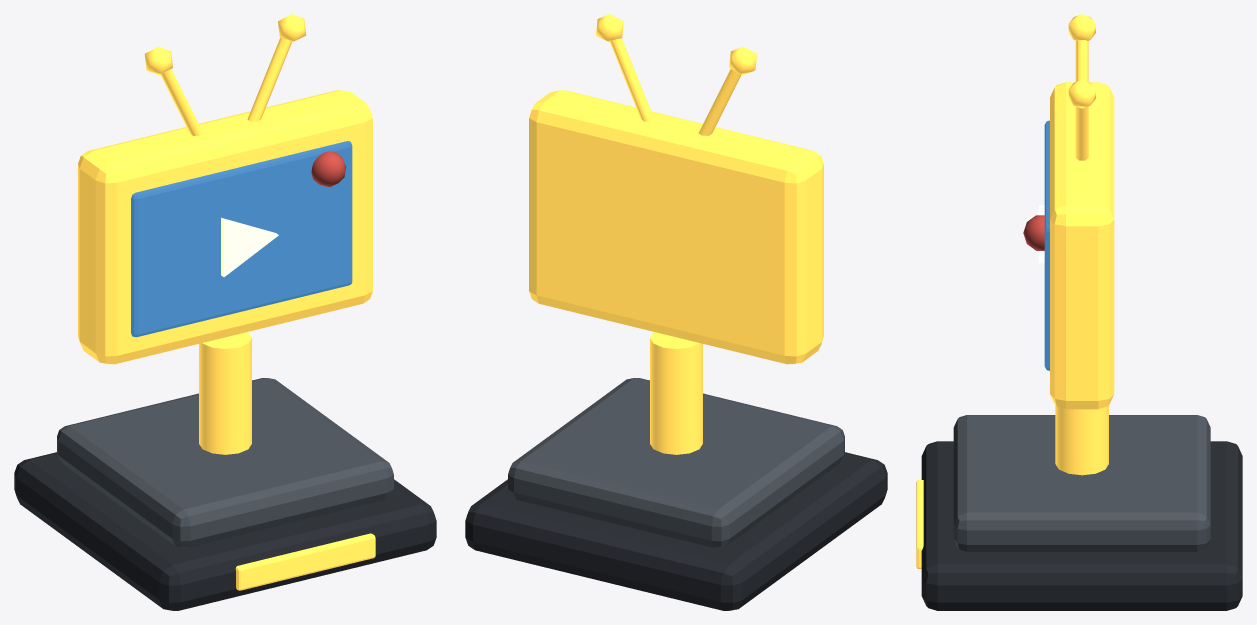
The model's file is trofeu-oficina-completa.glb.
3 renders of one model, left to right at view 1: azimuth 30°, elevation 25°; view 2: azimuth 150°, elevation 25°; view 3: azimuth 270°, elevation 25°, orthographic.
Parts seen in each view (by area): view 1: trofeu-oficina-completa; view 2: trofeu-oficina-completa; view 3: trofeu-oficina-completa.
Part boxes in pixels (bbox=[...]): trofeu-oficina-completa: bbox=[14, 14, 436, 610]; trofeu-oficina-completa: bbox=[465, 14, 887, 610]; trofeu-oficina-completa: bbox=[916, 14, 1242, 610].
Size of the model in its own units: 0.6 by 1.04 by 0.61.
